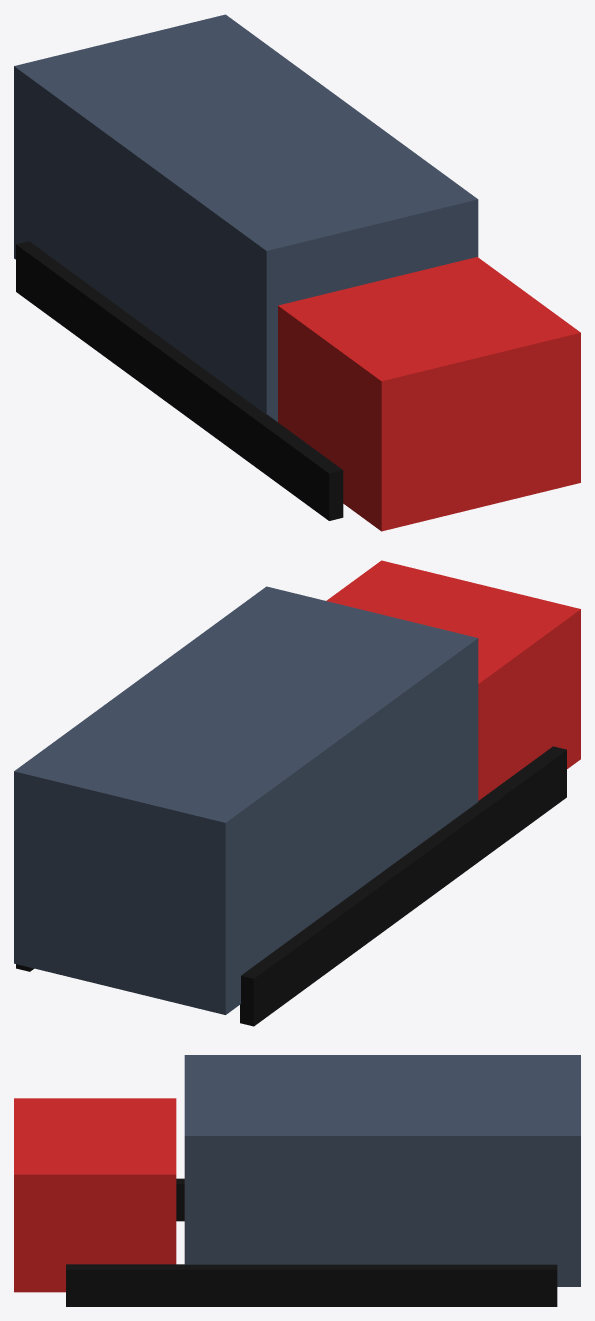
Rendered from truck_far.glb.
3 renders of one model, top to bottom at view 1: azimuth 30°, elevation 25°; view 2: azimuth 150°, elevation 25°; view 3: azimuth 270°, elevation 25°, orthographic. The views are drawn at different scales.
Visible parts, largest first — view 1: truck_far_cargo_container, truck_far_cab_block, truck_far_left_wheel_band; view 2: truck_far_cargo_container, truck_far_cab_block, truck_far_left_wheel_band; view 3: truck_far_cargo_container, truck_far_cab_block, truck_far_right_wheel_band, truck_far_left_wheel_band.
Part boxes in pixels (box(x1,y1,x2,y2)): truck_far_cargo_container: box(14, 14, 478, 421); truck_far_cab_block: box(278, 257, 580, 531); truck_far_left_wheel_band: box(16, 241, 343, 520); truck_far_cargo_container: box(14, 586, 478, 1014); truck_far_cab_block: box(326, 560, 580, 800); truck_far_left_wheel_band: box(240, 746, 566, 1026); truck_far_cargo_container: box(184, 1055, 580, 1286); truck_far_cab_block: box(14, 1098, 176, 1292); truck_far_right_wheel_band: box(66, 1264, 557, 1306); truck_far_left_wheel_band: box(176, 1178, 184, 1221).
Size of the model in its own units: 2.72 by 2.31 by 7.16.
